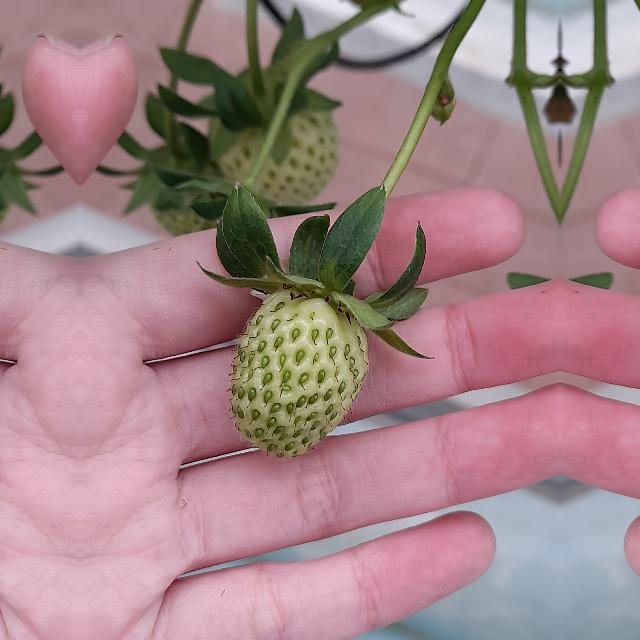Health_25: (231, 289, 369, 457)
